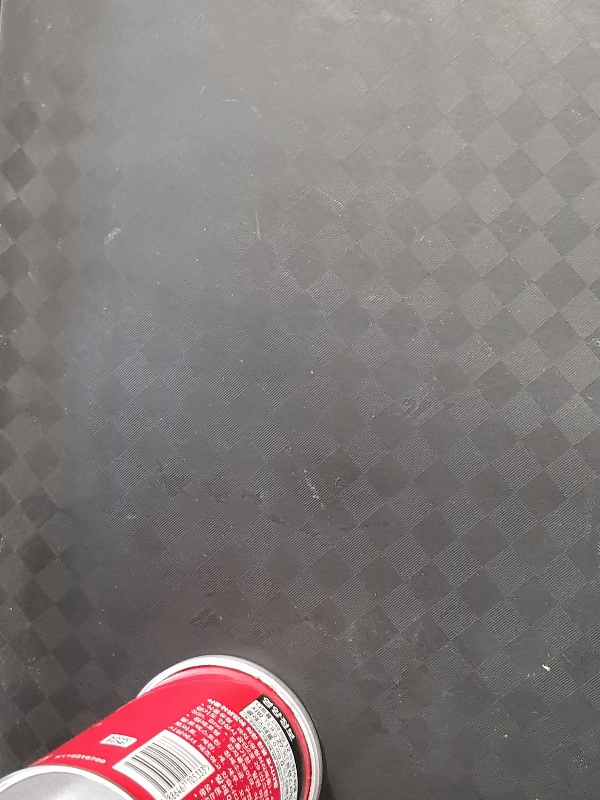Pringles Original: (1, 651, 328, 800)
